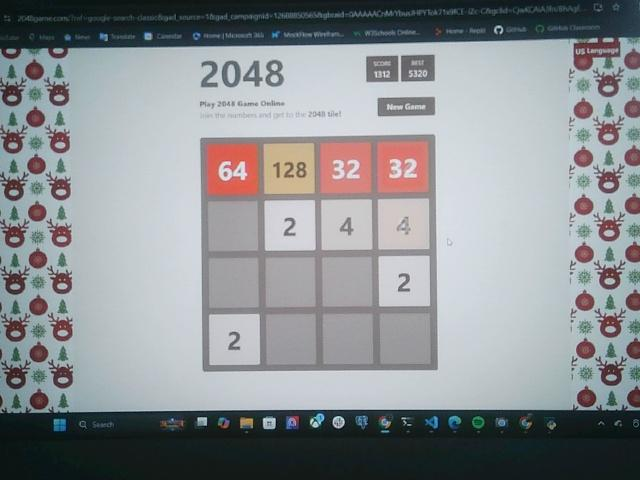board: (201, 137, 437, 370)
tile: (209, 314, 262, 367), (376, 141, 428, 194), (378, 199, 431, 251), (264, 143, 315, 195), (321, 143, 372, 194), (208, 144, 258, 195), (266, 200, 316, 251), (322, 200, 373, 250), (379, 257, 430, 307)
